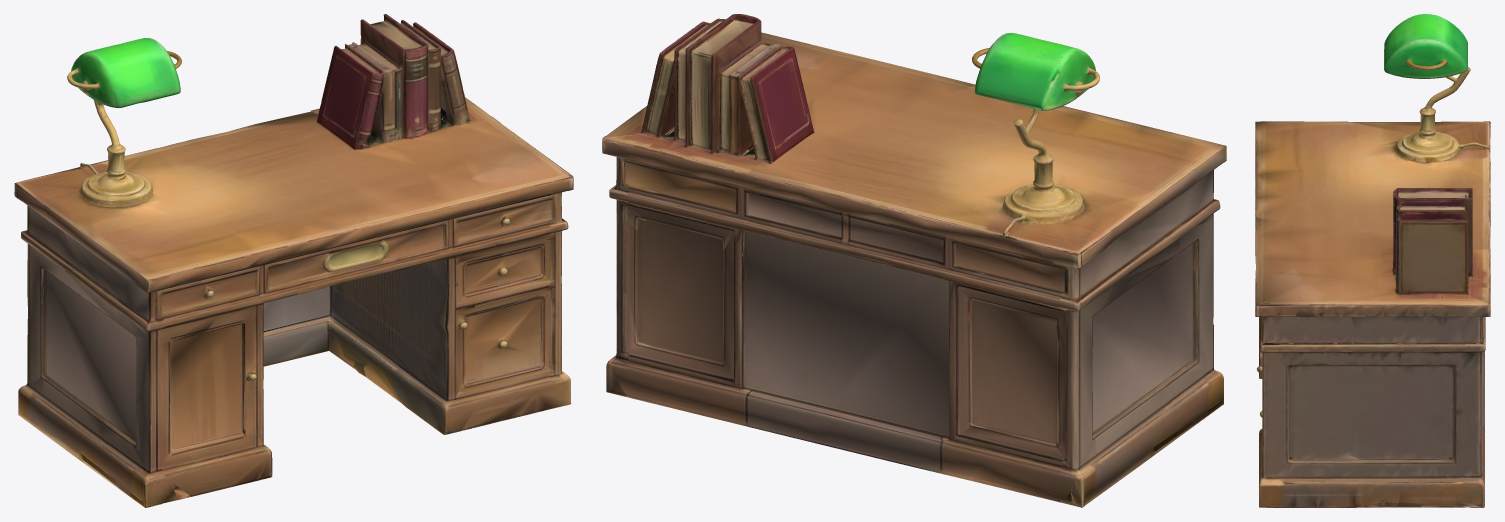
The model's file is desk.glb.
3 renders of one model, left to right at view 1: azimuth 30°, elevation 25°; view 2: azimuth 150°, elevation 25°; view 3: azimuth 270°, elevation 25°, orthographic. The views are drawn at different scales.
Visible parts, largest first — view 1: Mesh_0; view 2: Mesh_0; view 3: Mesh_0.
Boxes of the visible parts, x1,y1,x2,y2 form: Mesh_0: (14,14,573,507); Mesh_0: (602,14,1226,507); Mesh_0: (1255,14,1490,507).
Bounding box in the file's own units: 1.91 × 1.6 × 1.03.
Materials: 1 (1 with a texture image).
